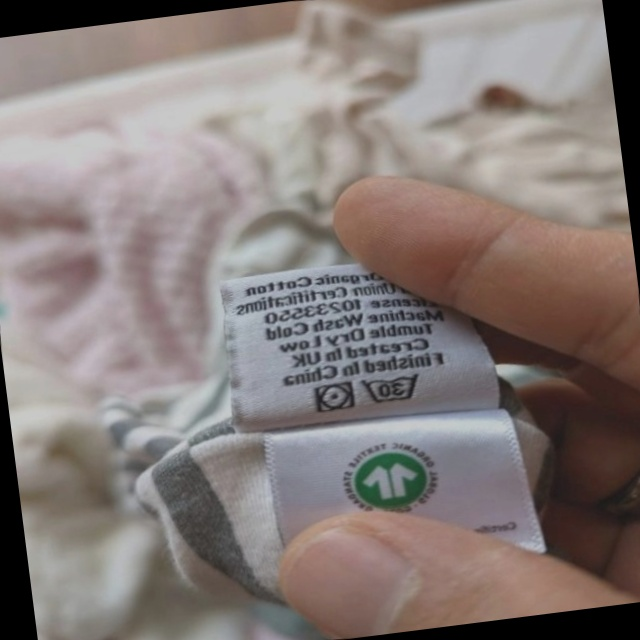30C: (356, 365, 428, 412)
tumble_dry_low: (309, 376, 360, 419)
